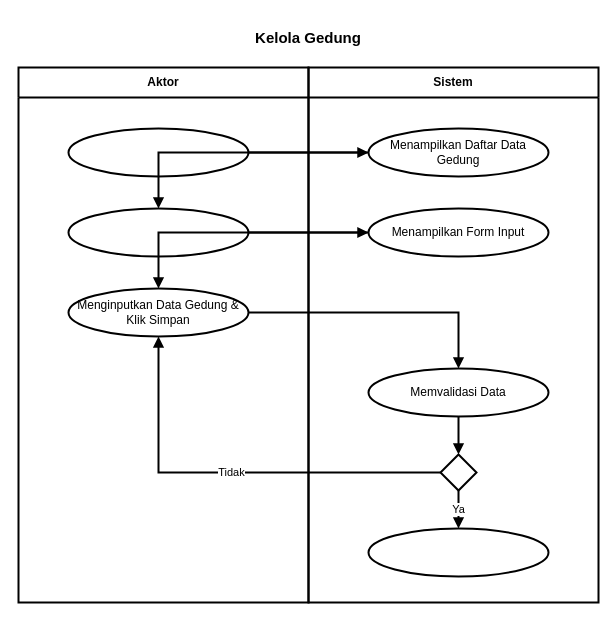
This 616x620 diagram has some shape labels left out. Here are the shapes that lost their labels. From the top down, the box of each, then its label:
(67, 127, 249, 177): Memilih Menu Kelola Gedung
(67, 207, 249, 257): Memilih Tombol Tambah Gedung
(367, 527, 549, 577): Menyimpan Data ke Database & Tampilkan Pesan Sukses
